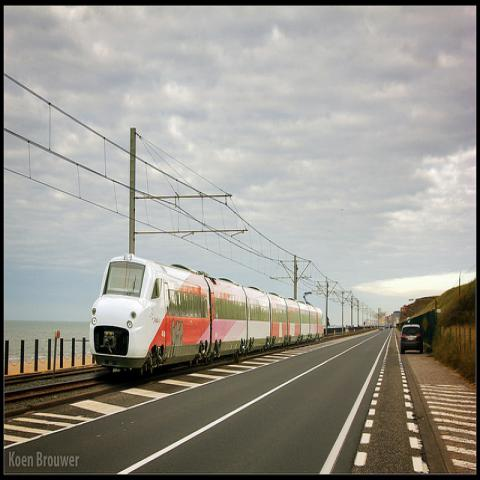car: (400, 324, 424, 354), (379, 326, 384, 331), (392, 325, 395, 328), (390, 325, 392, 328)
